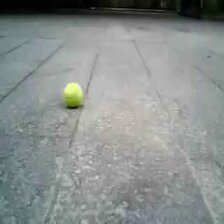tennis: (62, 82, 82, 102)
